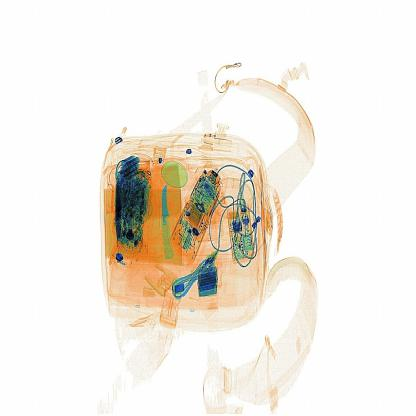wrench: (159, 173, 179, 271)
